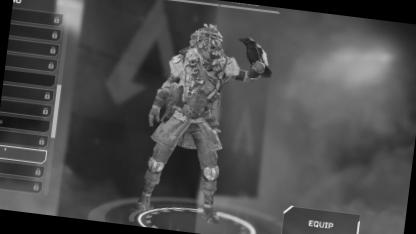Target: (140, 15, 235, 212)
